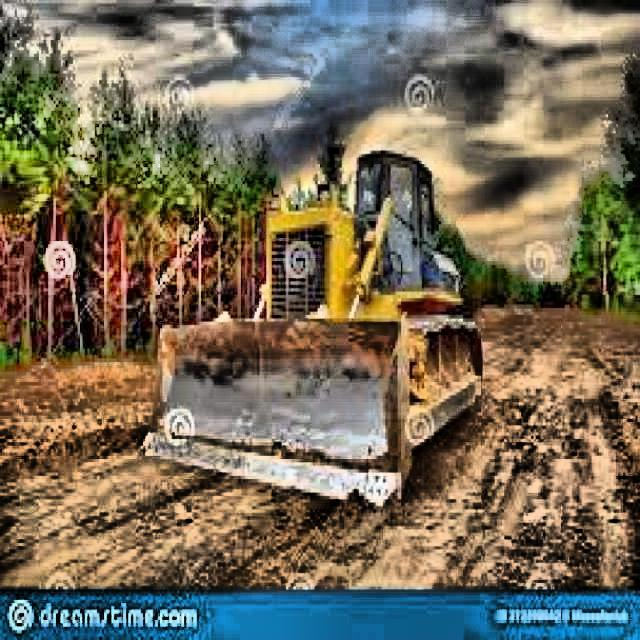bull_dozer/loader/grader: (138, 142, 488, 512)
person: (393, 179, 406, 213)
